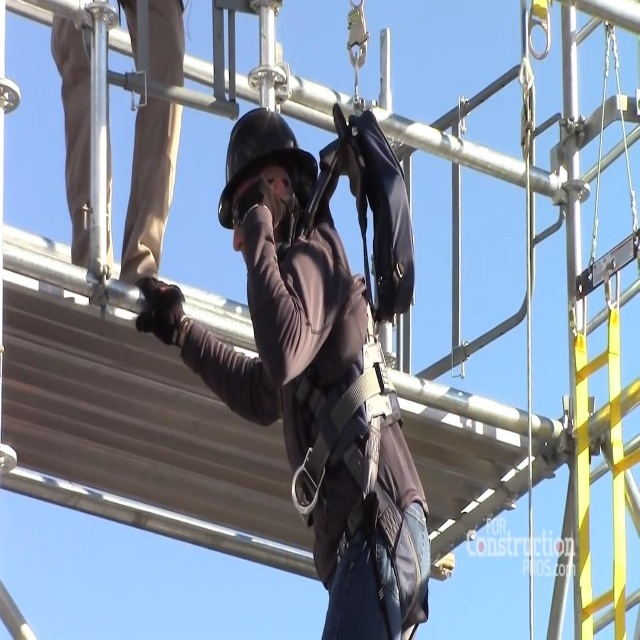Arnes_seguridad: (280, 112, 441, 631)
